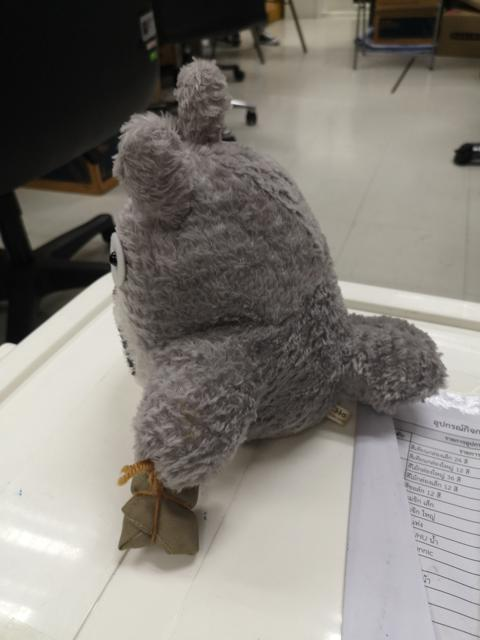totoro: (103, 48, 451, 572)
